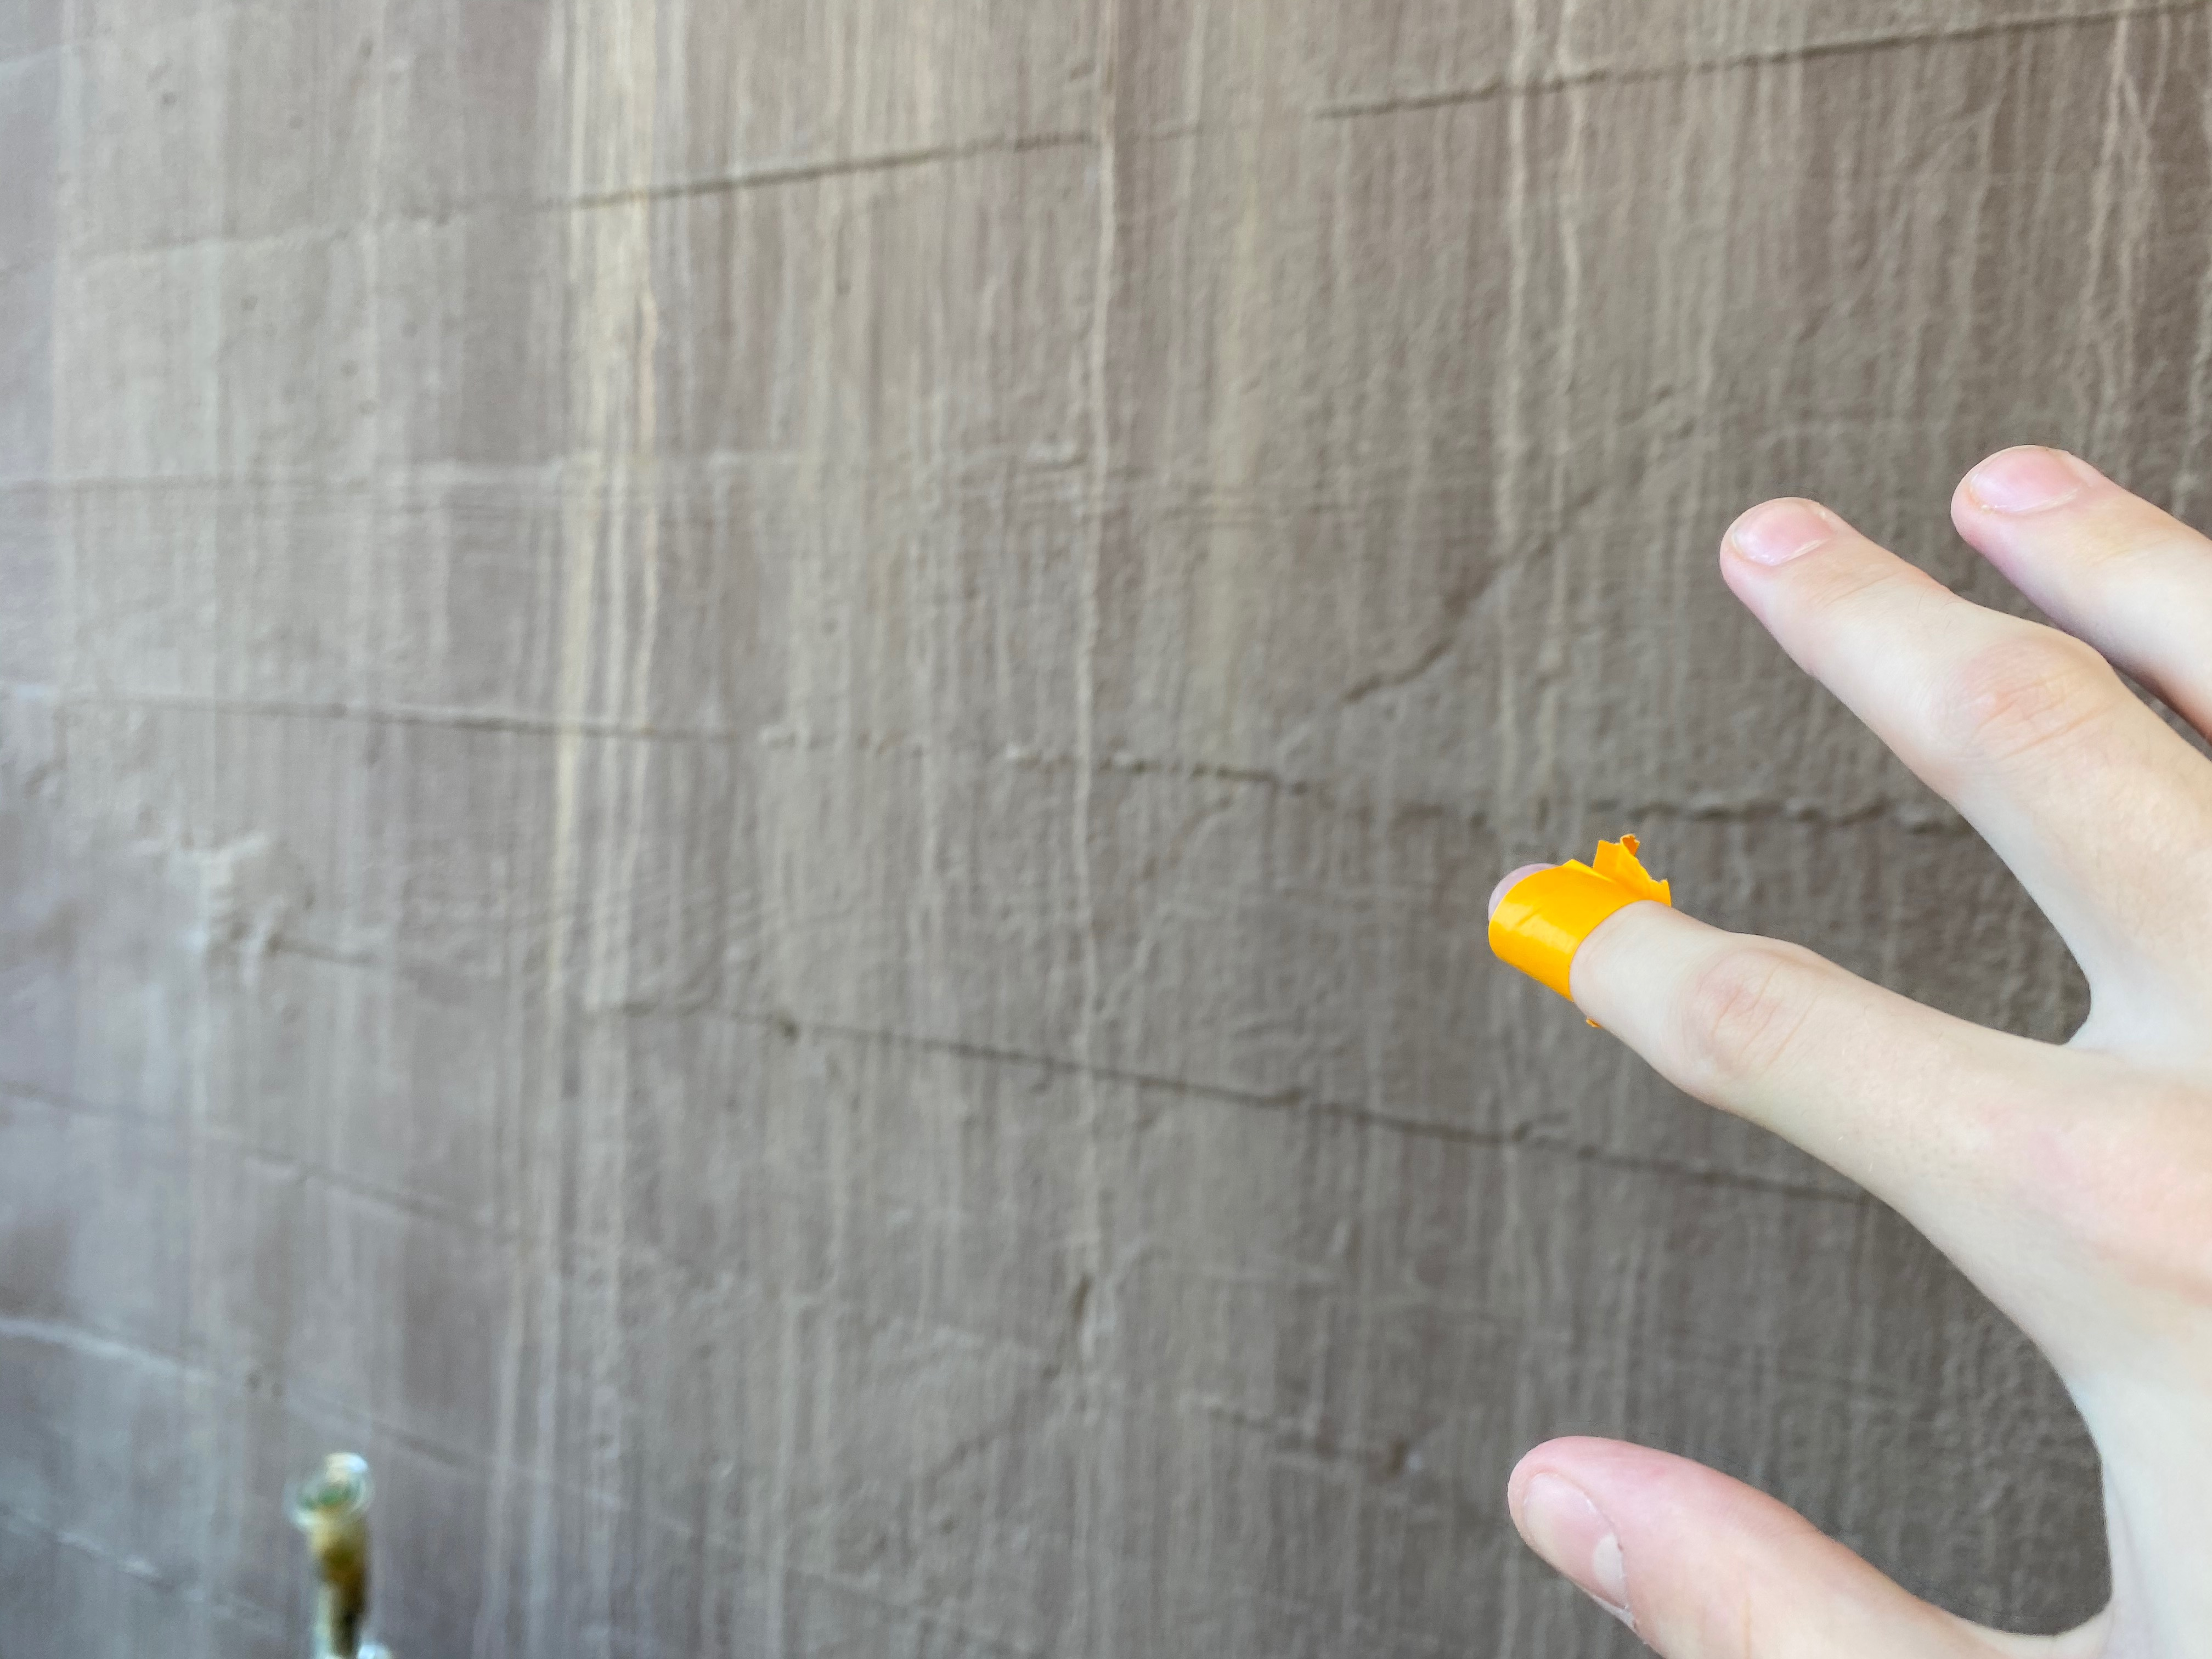fingertip: (1480, 828, 1691, 1068)
